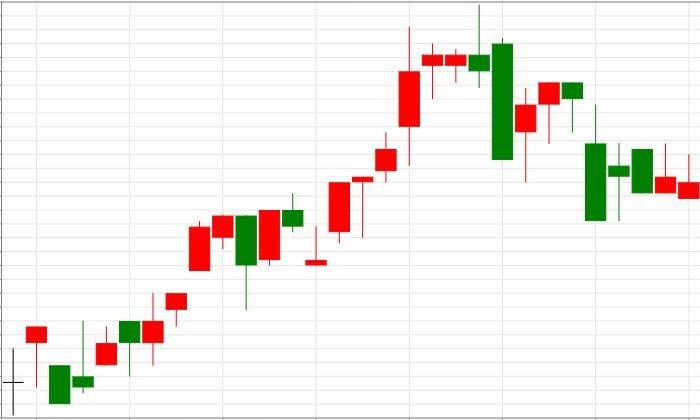bearish_engulfing_fall: (142, 215, 257, 366)
